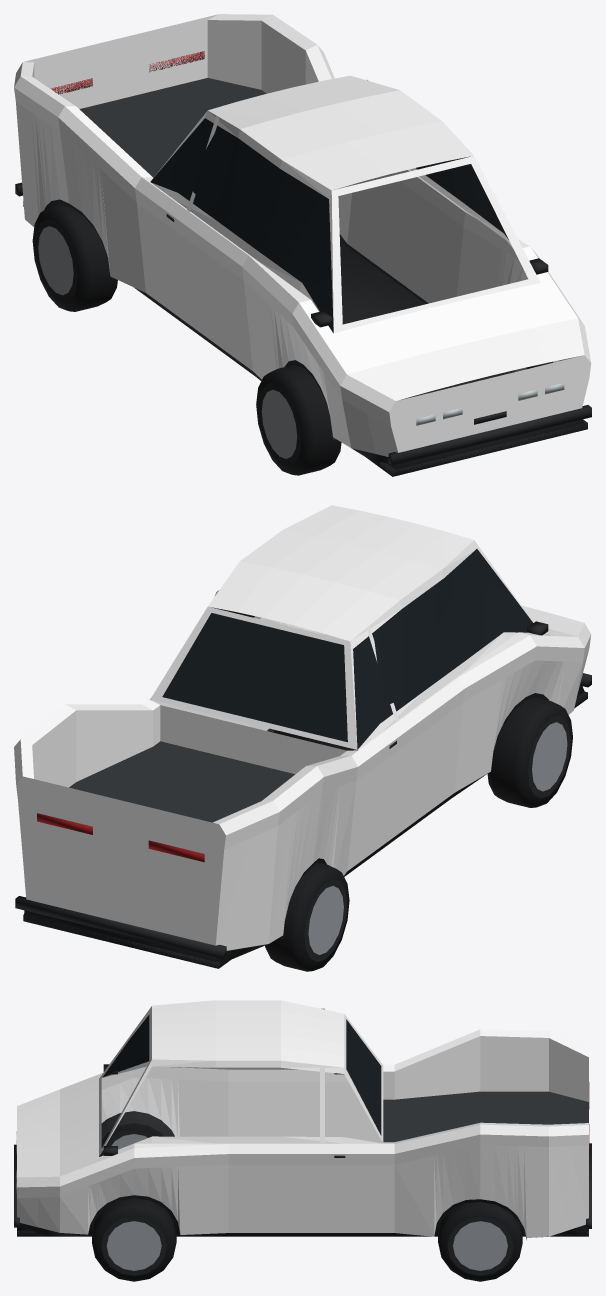
The model's file is kanaya_cascalho.glb.
3 renders of one model, top to bottom at view 1: azimuth 30°, elevation 25°; view 2: azimuth 150°, elevation 25°; view 3: azimuth 270°, elevation 25°, orthographic. The views are drawn at different scales.
Parts seen in each view (by area): view 1: Body_Paint, Body_Details, Mount_FrontLeft_Wheel_Details, Mount_RearLeft_Wheel_Details; view 2: Body_Paint, Body_Details, Mount_FrontLeft_Wheel_Details, Mount_RearLeft_Wheel_Details; view 3: Body_Paint, Body_Details, Mount_FrontRight_Wheel_Details, Mount_RearRight_Wheel_Details, Mount_FrontLeft_Wheel_Details.
Part boxes in pixels (x1,y1,x2,y2): Body_Paint: (14,14,591,456); Body_Details: (15,51,591,476); Mount_FrontLeft_Wheel_Details: (256,364,341,475); Mount_RearLeft_Wheel_Details: (32,203,117,311); Body_Paint: (14,505,591,950); Body_Details: (15,549,591,968); Mount_FrontLeft_Wheel_Details: (487,697,572,807); Mount_RearLeft_Wheel_Details: (265,862,349,971); Body_Paint: (17,1000,588,1237); Body_Details: (14,1014,591,1239); Mount_FrontRight_Wheel_Details: (92,1198,176,1281); Mount_RearRight_Wheel_Details: (438,1202,522,1281); Mount_FrontLeft_Wheel_Details: (99,1123,163,1156).
Bounding box in the file's own units: 2.23 × 2.08 × 5.32.
Materials: 2 (1 with a texture image).
